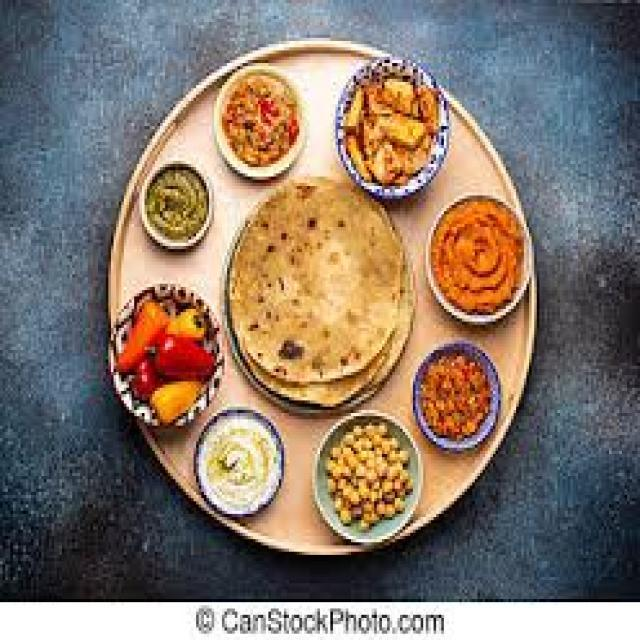roti: (227, 186, 404, 401)
sweet: (209, 67, 317, 174), (410, 339, 508, 456), (136, 165, 216, 256)
veg-fry: (208, 64, 311, 182)
